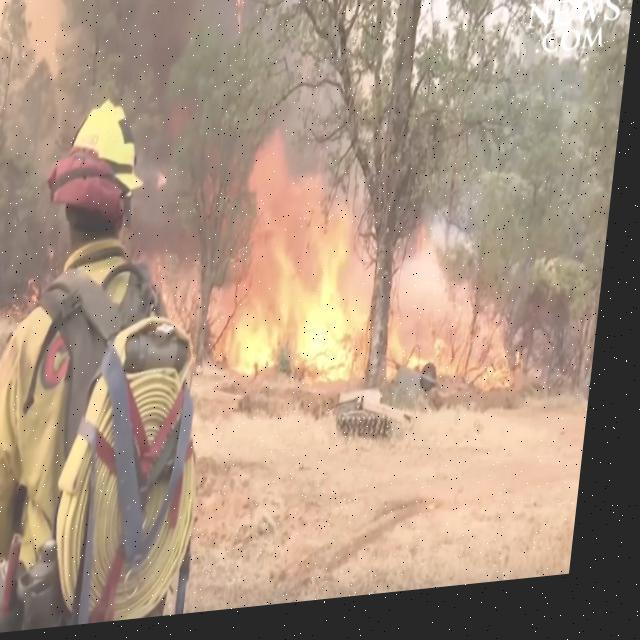Fire: (212, 115, 400, 426), (391, 298, 544, 424)
